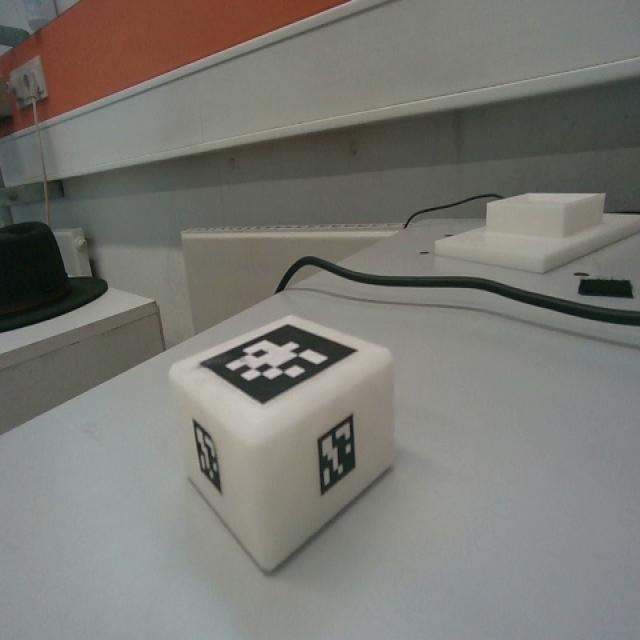Cube: (168, 312, 397, 575)
